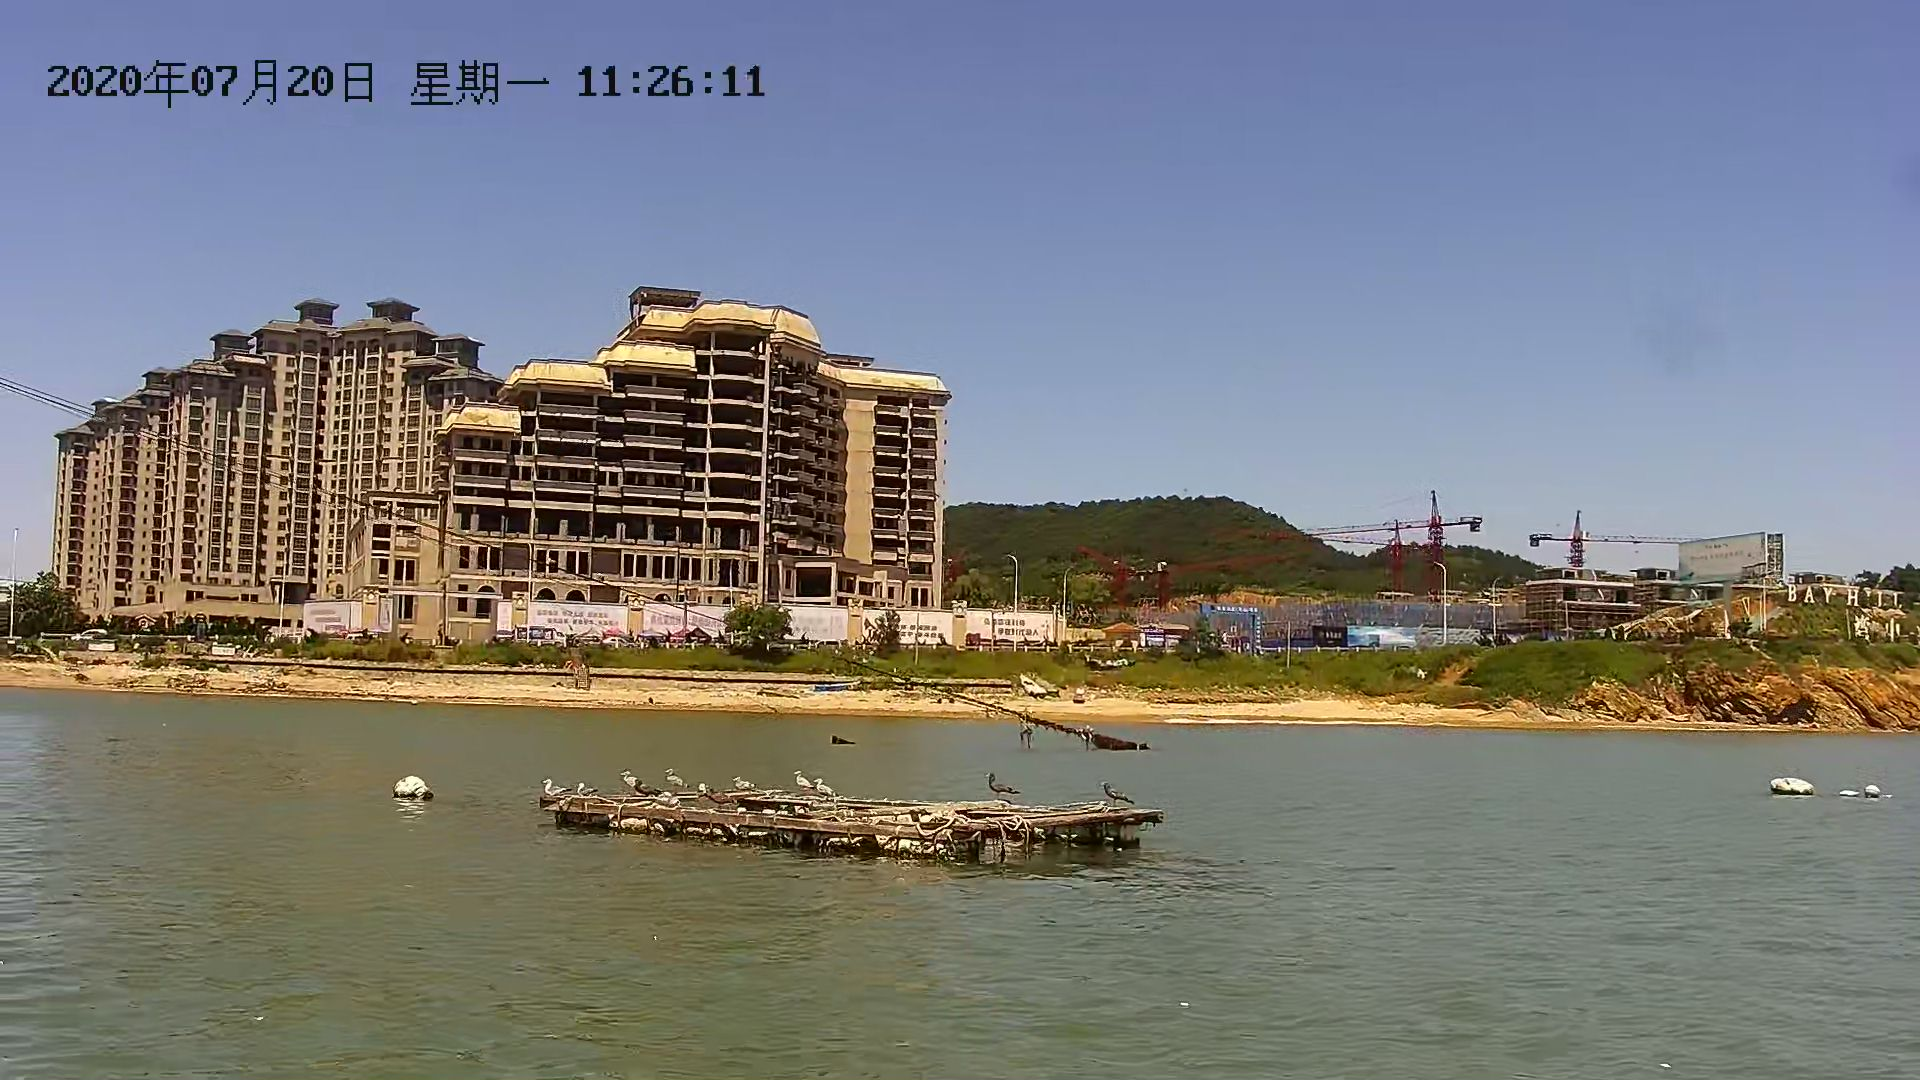platform: (521, 753, 1156, 882)
rubbish: (1758, 761, 1815, 807), (1833, 770, 1900, 807), (388, 767, 444, 800)
